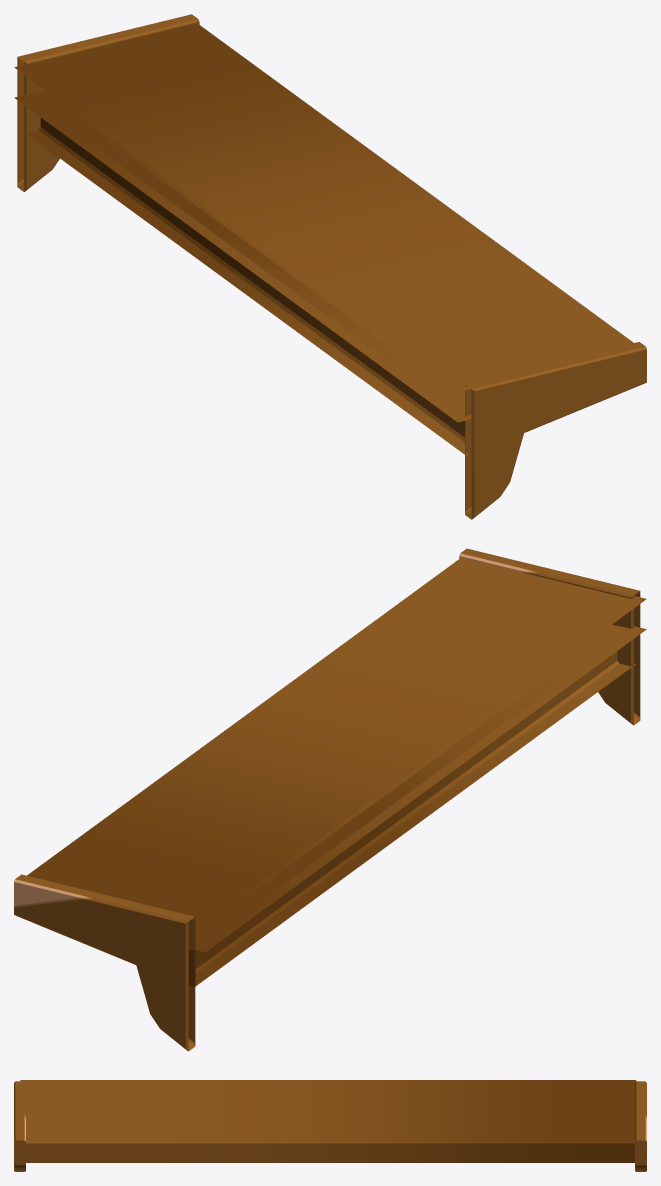
Rendered from SM_Shelf.fbx.
The picture shows the model from 3 angles, top to bottom: view 1: azimuth 30°, elevation 25°; view 2: azimuth 150°, elevation 25°; view 3: azimuth 270°, elevation 25°; orthographic projection. The views are drawn at different scales.
Parts seen in each view (by area): view 1: SM_Shelf; view 2: SM_Shelf; view 3: SM_Shelf.
Boxes of the visible parts, x1,y1,x2,y2 form: SM_Shelf: [14, 14, 646, 519]; SM_Shelf: [14, 548, 646, 1051]; SM_Shelf: [14, 1080, 646, 1171].
Size of the model in its own units: 44.78 by 30.27 by 192.
